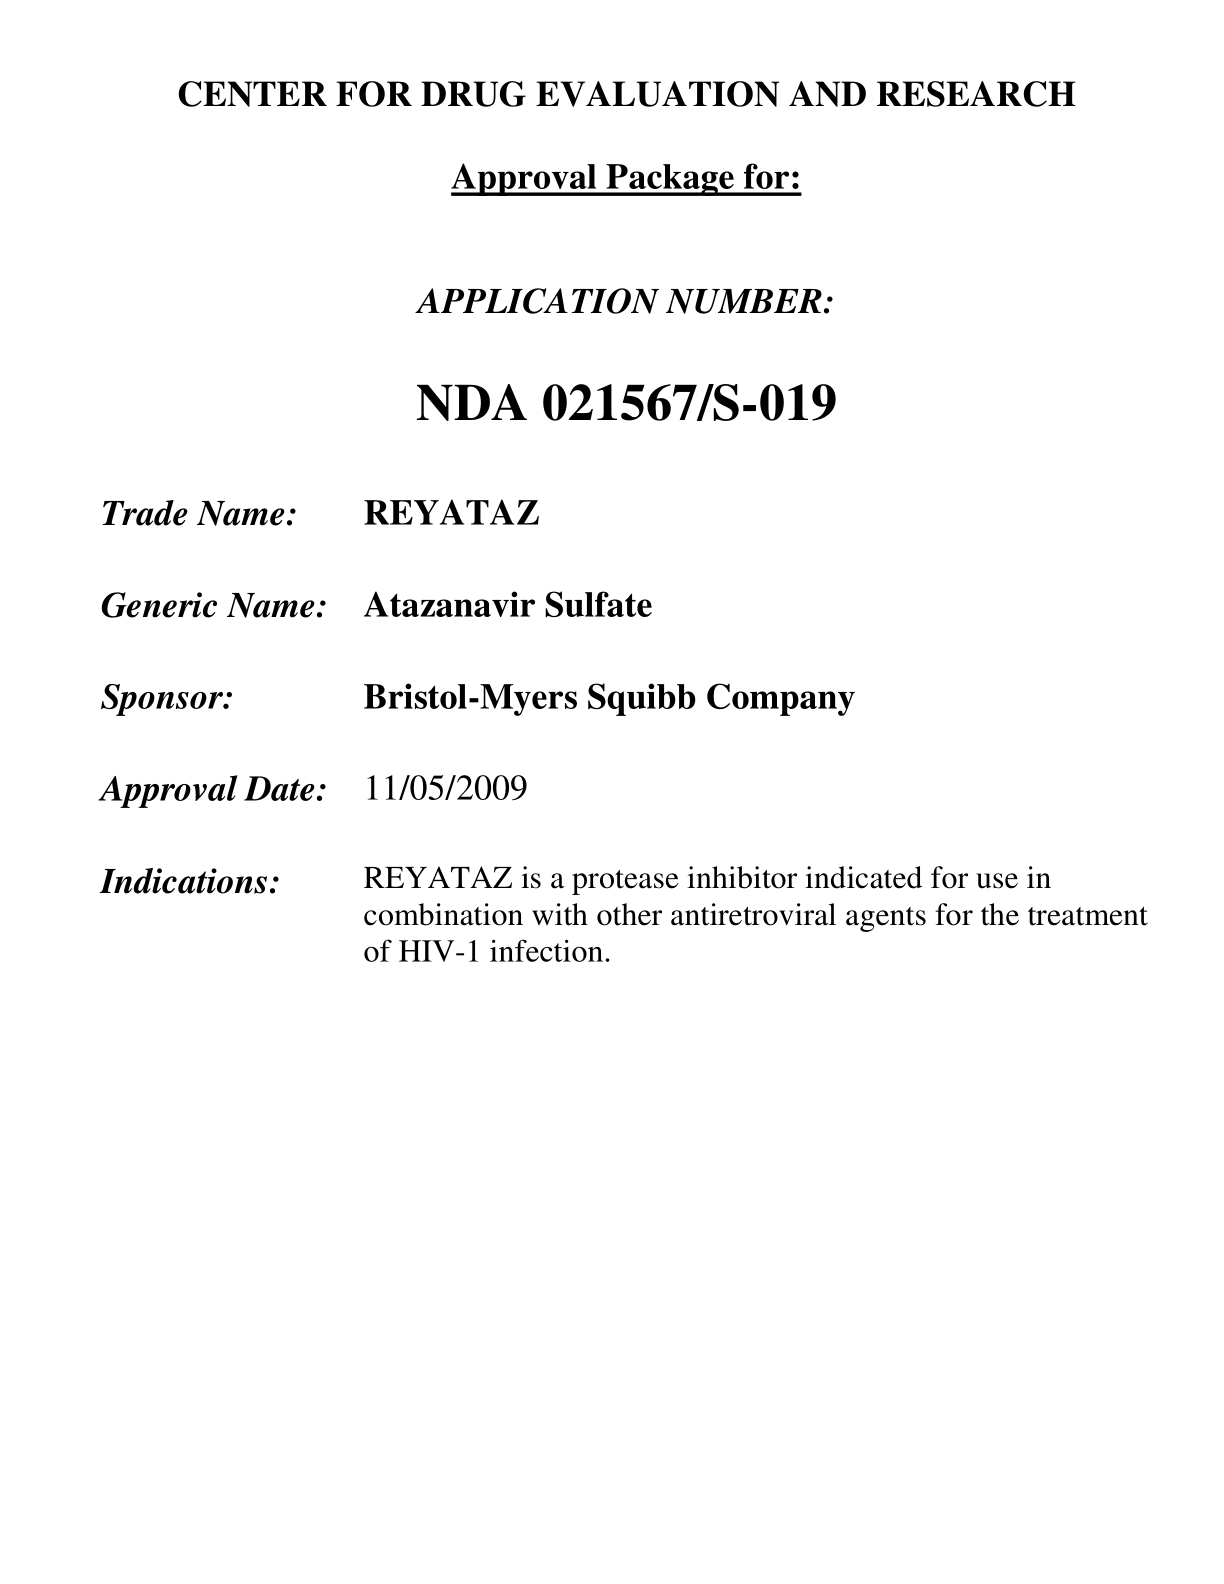nolines: (96, 492, 1151, 963)
